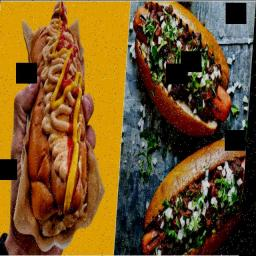hotdog: (16, 0, 108, 231), (127, 0, 236, 133), (132, 132, 248, 256)
